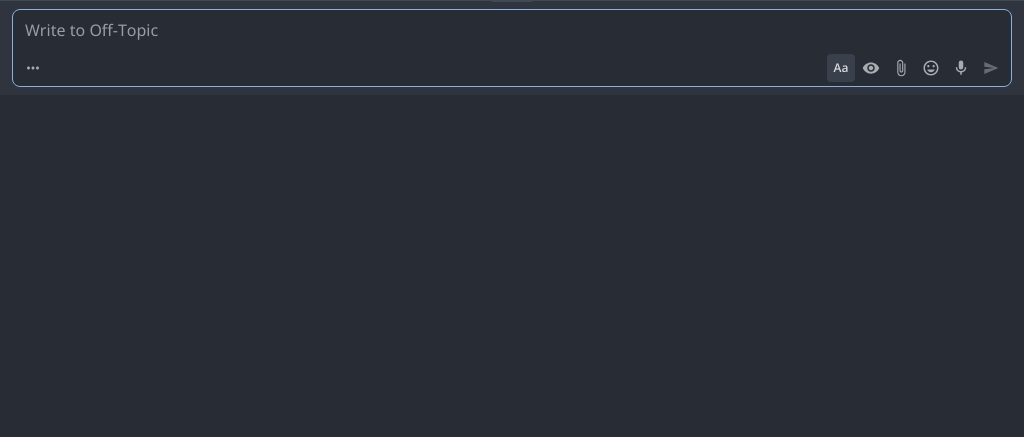
the "more formatting" popover lists the collapsed buttons; picking one applies it, closes the popover and refocuses the textarea
This screenshot has width=1024, height=437.
Type "word" into the text box named "Message" at (512, 30), box [13,10,1011,50]
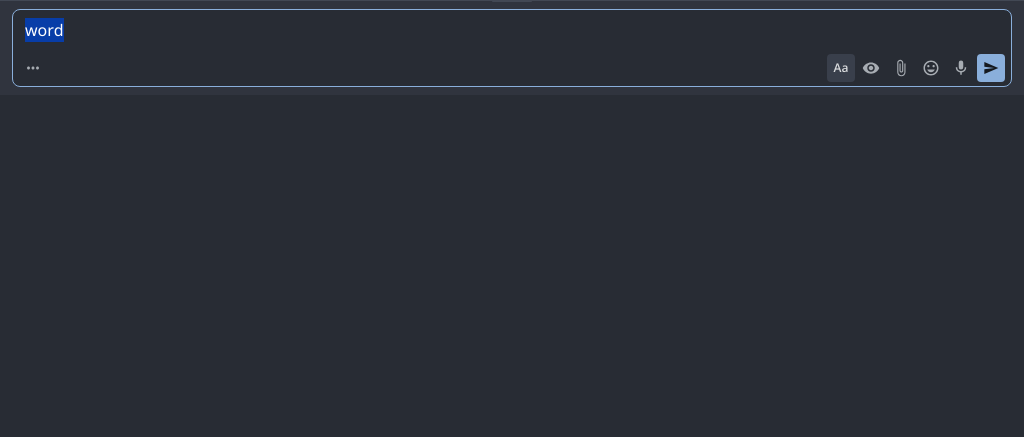
Click the button named "More formatting options" at (33, 68), box [19,54,47,82]
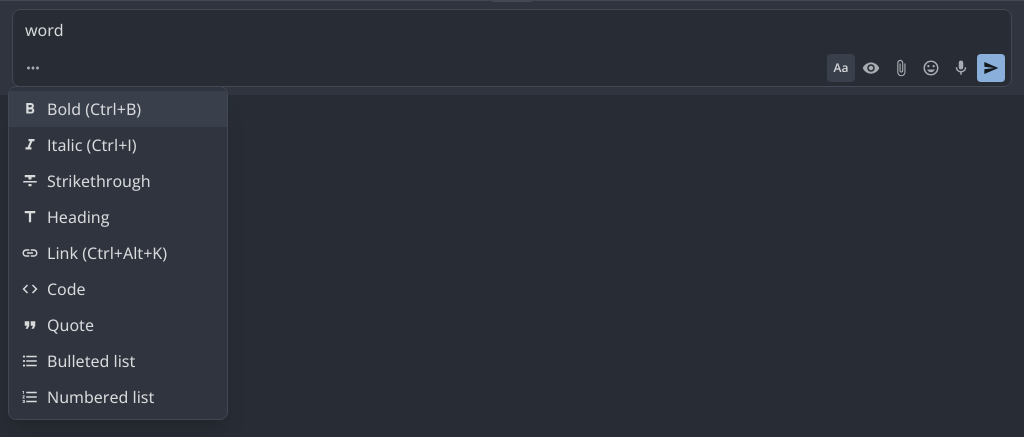
Click the menu item "Quote" at (118, 325), box [9,307,227,343]
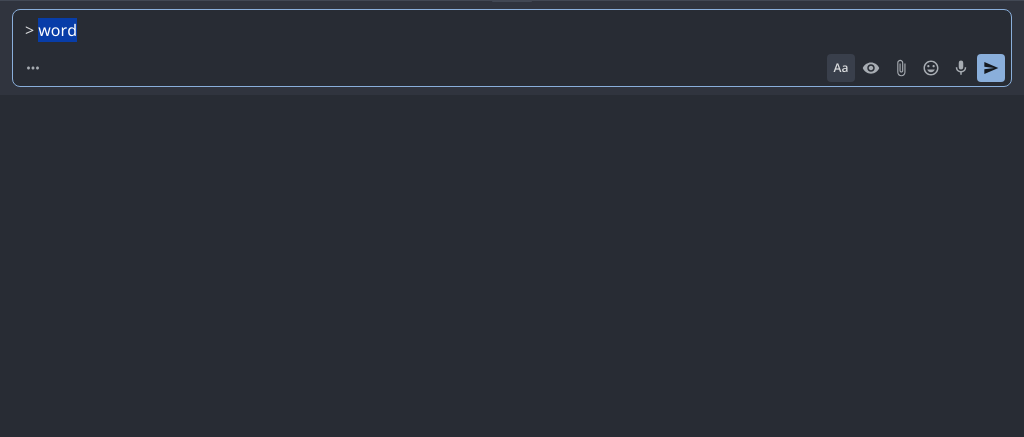
Now the menu is gone
Now the text box named "Message" holds "> word", box [13,10,1011,50]
